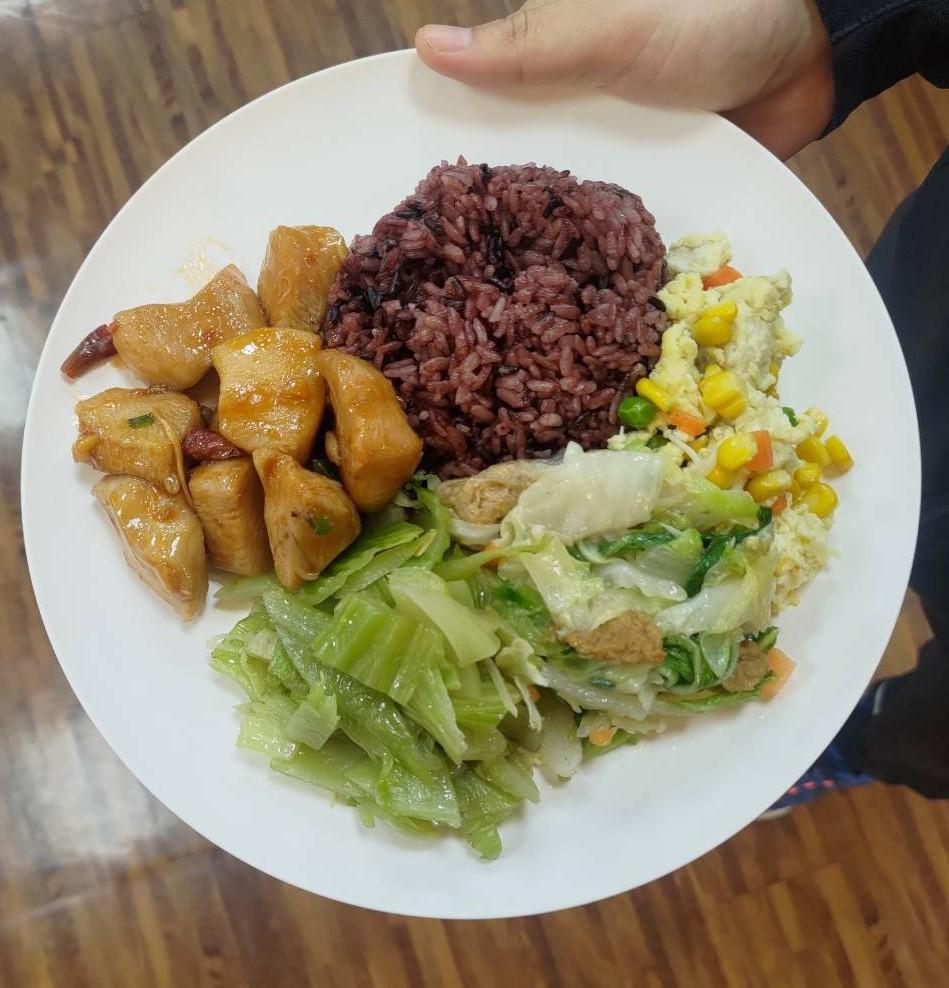big fried chicken leg: (20, 32, 936, 928)
braised fish: (306, 148, 670, 482)
braised fish fillet: (214, 512, 583, 861), (460, 436, 795, 739), (621, 234, 848, 614)
braised pork: (72, 216, 427, 618)
